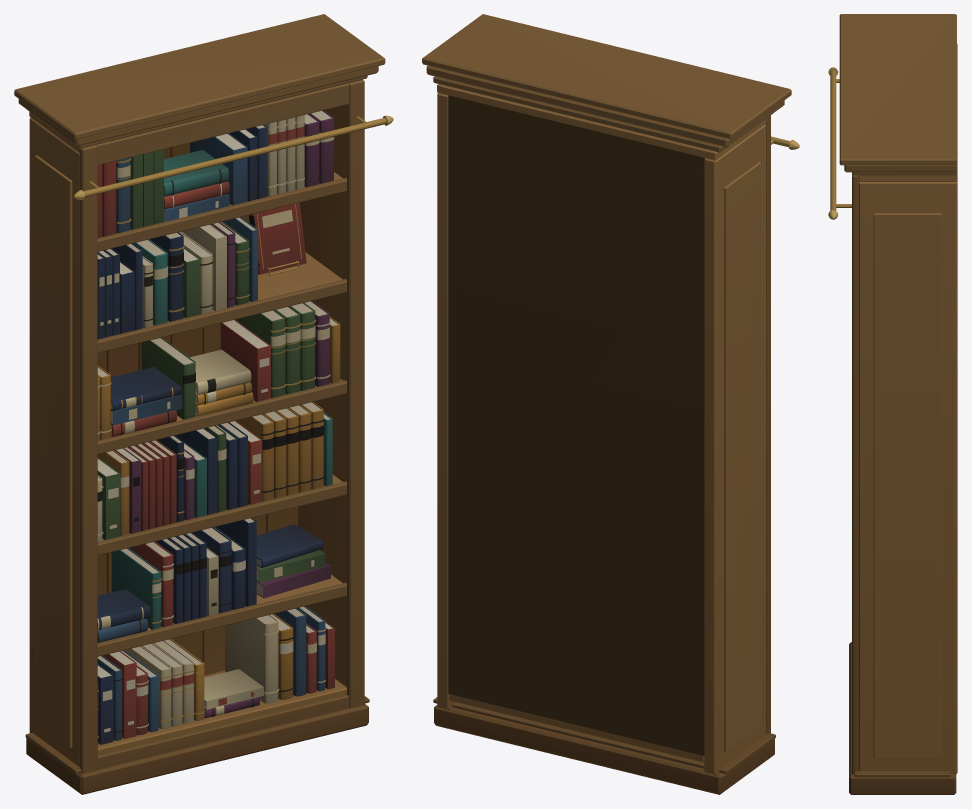
File: tall-bookcase.glb
3 views of the same model, side by side, from view 1: azimuth 30°, elevation 25°; view 2: azimuth 150°, elevation 25°; view 3: azimuth 270°, elevation 25° (orthographic). The views are drawn at different scales.
Parts seen in each view (by area): view 1: tall_bookcase; view 2: tall_bookcase; view 3: tall_bookcase.
Part boxes in pixels (bbox=[...]): tall_bookcase: bbox=[14, 14, 393, 794]; tall_bookcase: bbox=[422, 14, 799, 794]; tall_bookcase: bbox=[828, 14, 957, 794].
Bounding box in the file's own units: 1.14 × 2.28 × 0.416.
